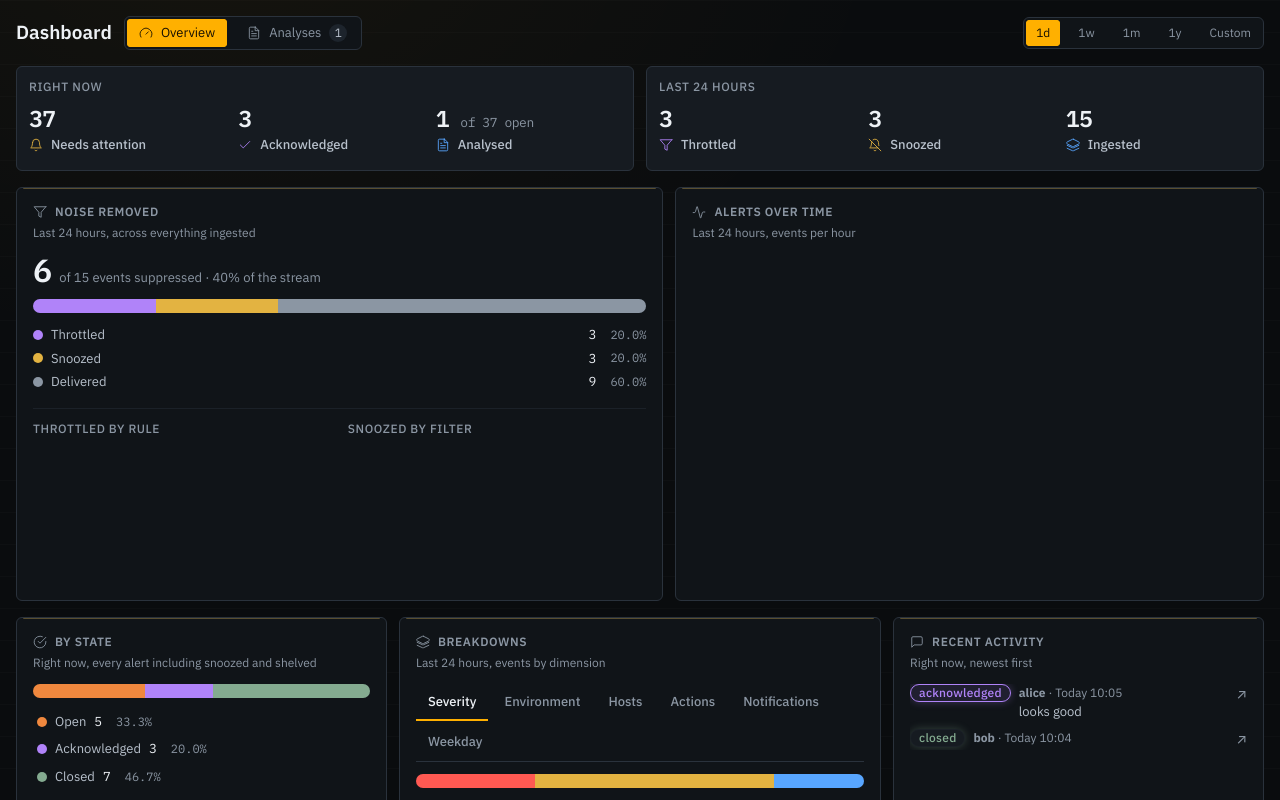
Scenario: DashboardPage › the Analyses view › counts the analysed alerts on a Right-now tile that opens the view
Expected: the text "of 37 open" is shown, [453,114,534,131]
Click the text "Analysed": [474, 145] box [436,135,512,155]
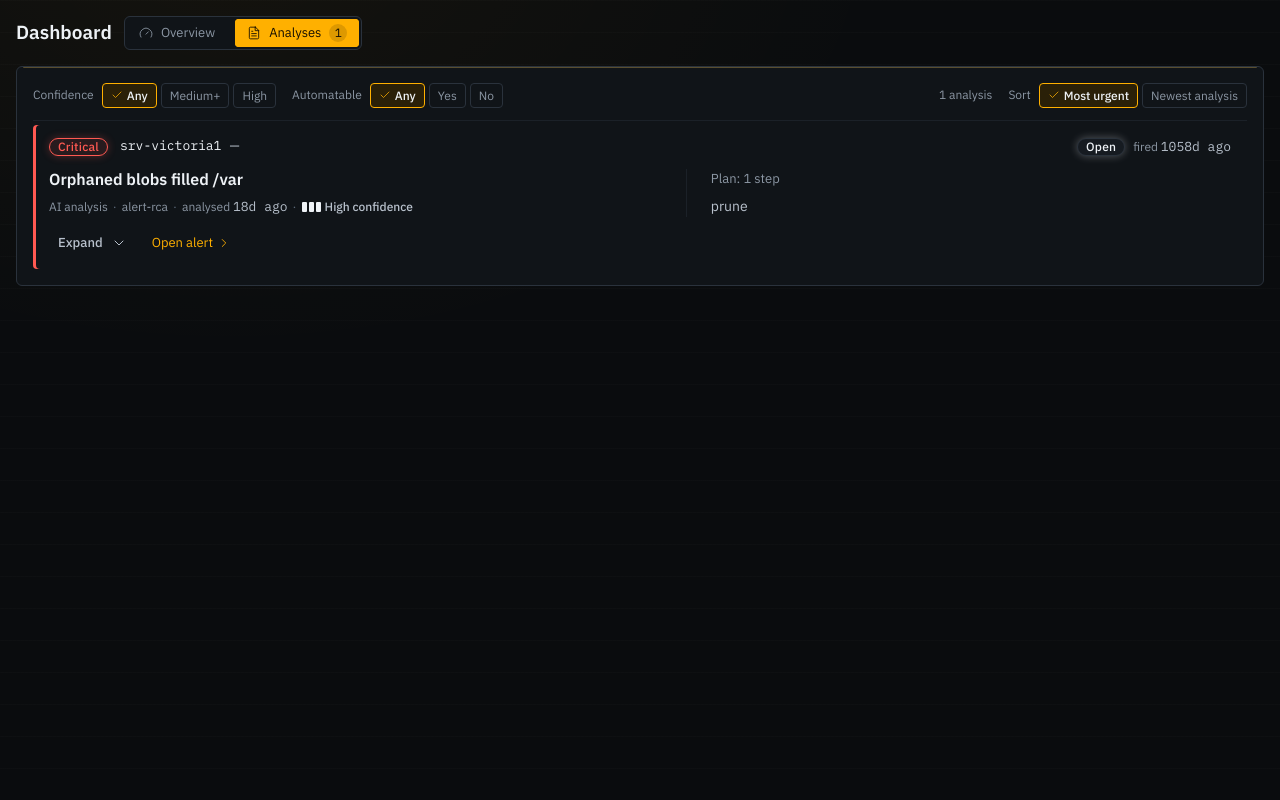
Now the text "Orphaned blobs filled /var" is shown, box [49,169,243,189]
